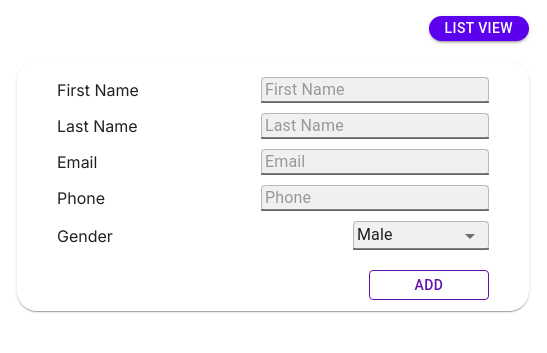
it: Add Page tests › Showing errors messages correctly part 2 (First and last name correct and email, phone wrong)
The image size is (547, 353).
Step 1. Type "johnss" into the field with placeholder "First Name" → (375, 90), box [261,77,489,103]
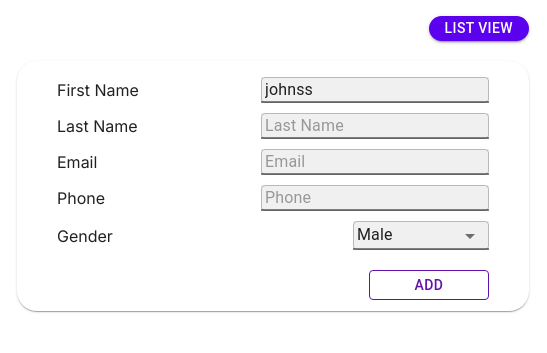
Step 2. Type "Wttheee" into the field with placeholder "Last Name" → (375, 126), box [261,113,489,139]
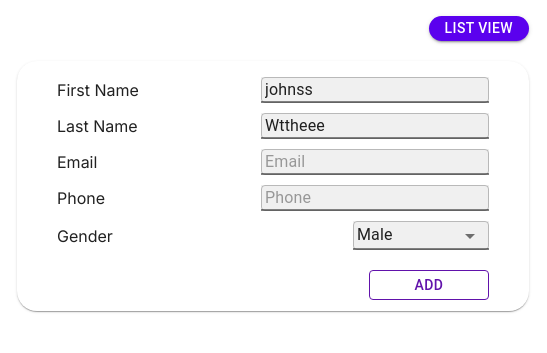
Step 3. Type "aaaa@..." into the field with placeholder "Email" → (375, 162), box [261,149,489,175]
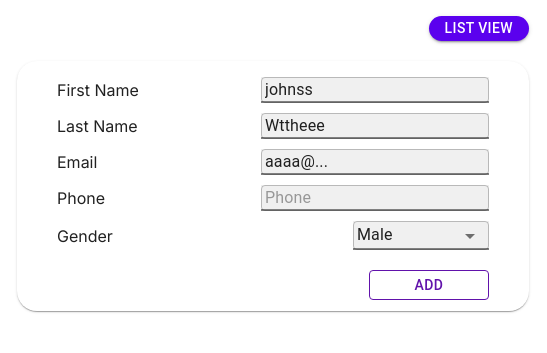
Step 4. Type "09555555252" into the field with placeholder "Phone" → (375, 198), box [261,185,489,211]
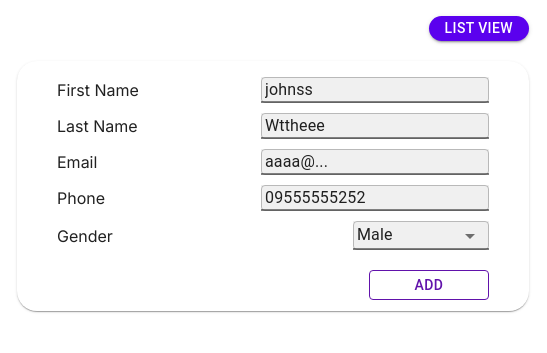
Step 5. Click the button "ADD" → click(429, 285), box [369,270,489,300]
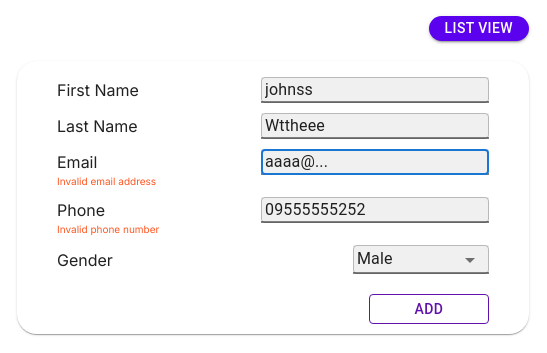
Result: the text "Invalid email address" is shown at [57,175,156,187]
Result: the text "Invalid phone number" is shown at [57,223,159,235]
